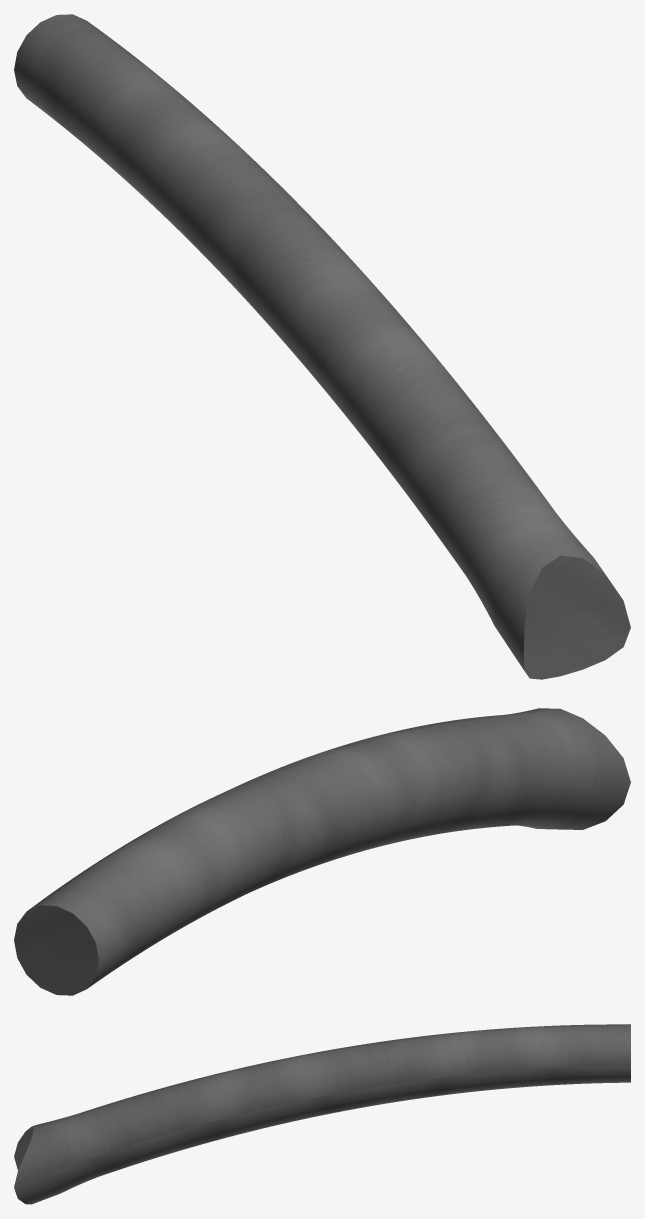
Rendered from mastarmcurve_5x1_inv.obj.
3 renders of one model, top to bottom at view 1: azimuth 30°, elevation 25°; view 2: azimuth 150°, elevation 25°; view 3: azimuth 270°, elevation 25°, orthographic. The views are drawn at different scales.
Parts seen in each view (by area): view 1: mastarm_5x1_inv; view 2: mastarm_5x1_inv; view 3: mastarm_5x1_inv.
Boxes of the visible parts, box(x1,y1,x2,y2) form: mastarm_5x1_inv: box(14, 14, 630, 679); mastarm_5x1_inv: box(14, 708, 630, 995); mastarm_5x1_inv: box(14, 1024, 630, 1204).
Bounding box in the file's own units: 0.1189 × 0.3099 × 1.
